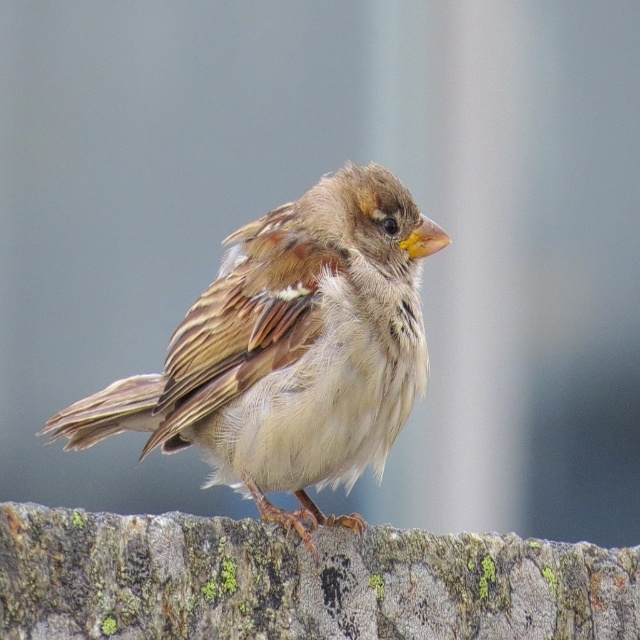Sparrow: (34, 162, 450, 552)
